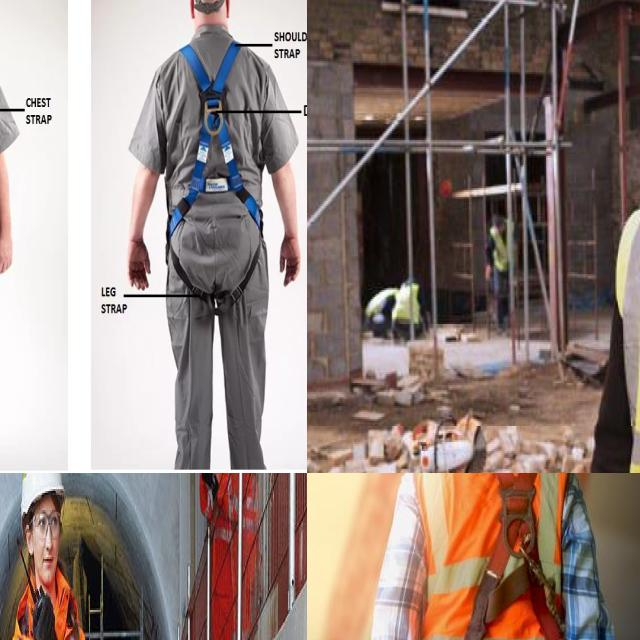Harness: (164, 41, 263, 310), (464, 473, 566, 640)
face_nomask: (29, 491, 64, 585)
glasses: (28, 502, 62, 548)
hand_glove: (26, 587, 58, 640)
head_helmet: (20, 473, 64, 515)
person: (9, 473, 105, 640), (199, 473, 235, 640), (486, 210, 523, 317), (234, 473, 257, 640), (392, 274, 426, 338), (366, 285, 397, 326)
vest: (489, 224, 508, 276), (399, 284, 418, 320)
